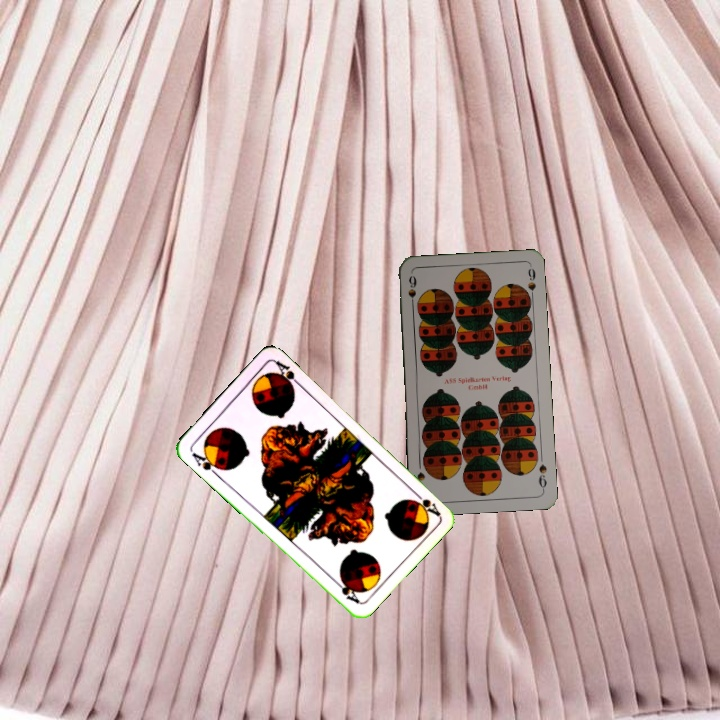S9: (404, 272, 419, 312), (535, 460, 549, 493)
SA: (187, 447, 225, 479), (408, 486, 442, 519)
